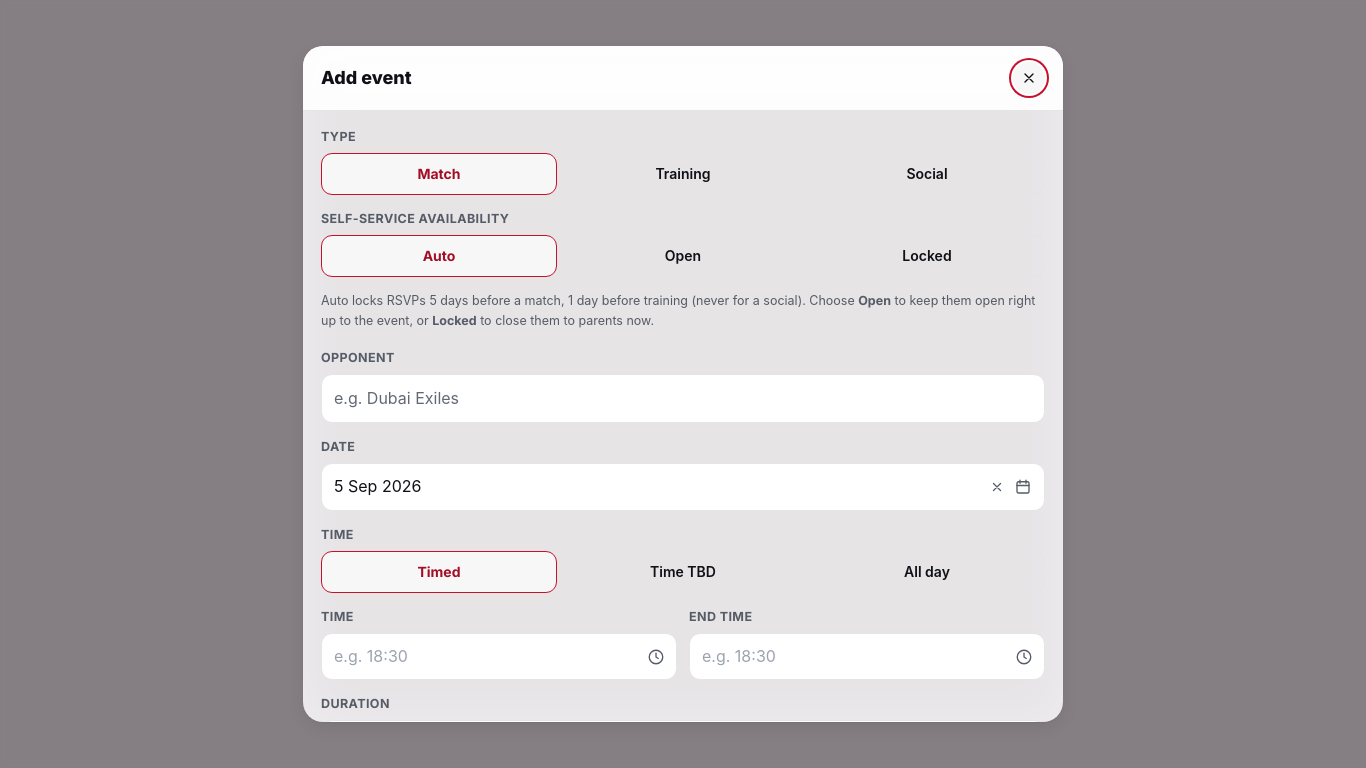
EventForm — conditional fields › swaps to a title field and hides every match-only field for training
Click the radio button labelled "Training" at point(683, 174), box [565, 153, 801, 195]
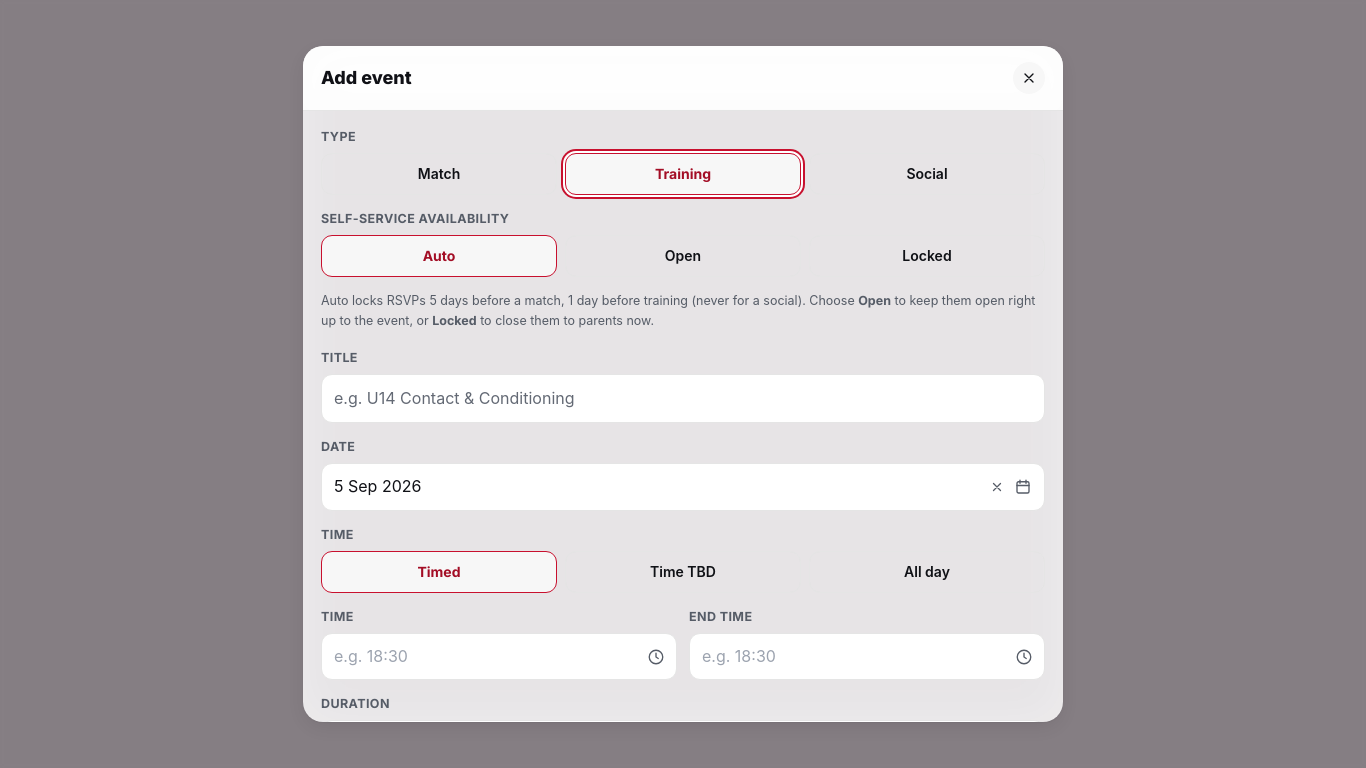
expect the field labelled "Title" is shown: met, box [321, 374, 1045, 423]
expect the label labelled "Opponent" is gone: met
